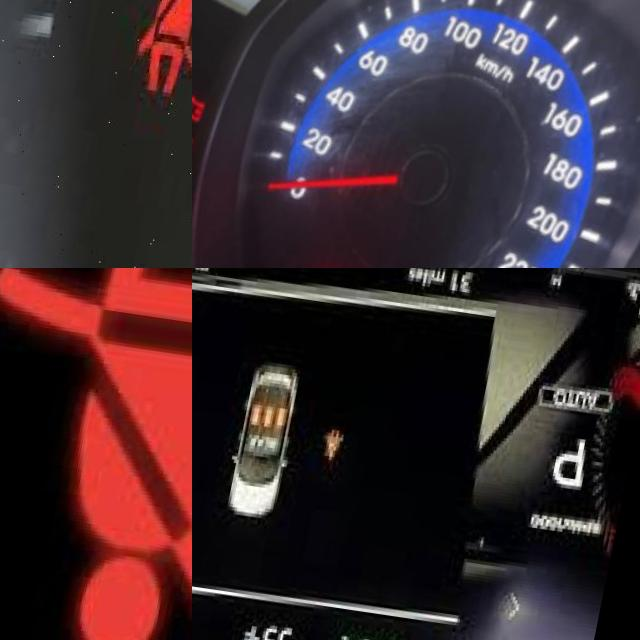Seat Belt: (0, 268, 192, 640), (138, 0, 192, 94), (332, 417, 356, 449)
